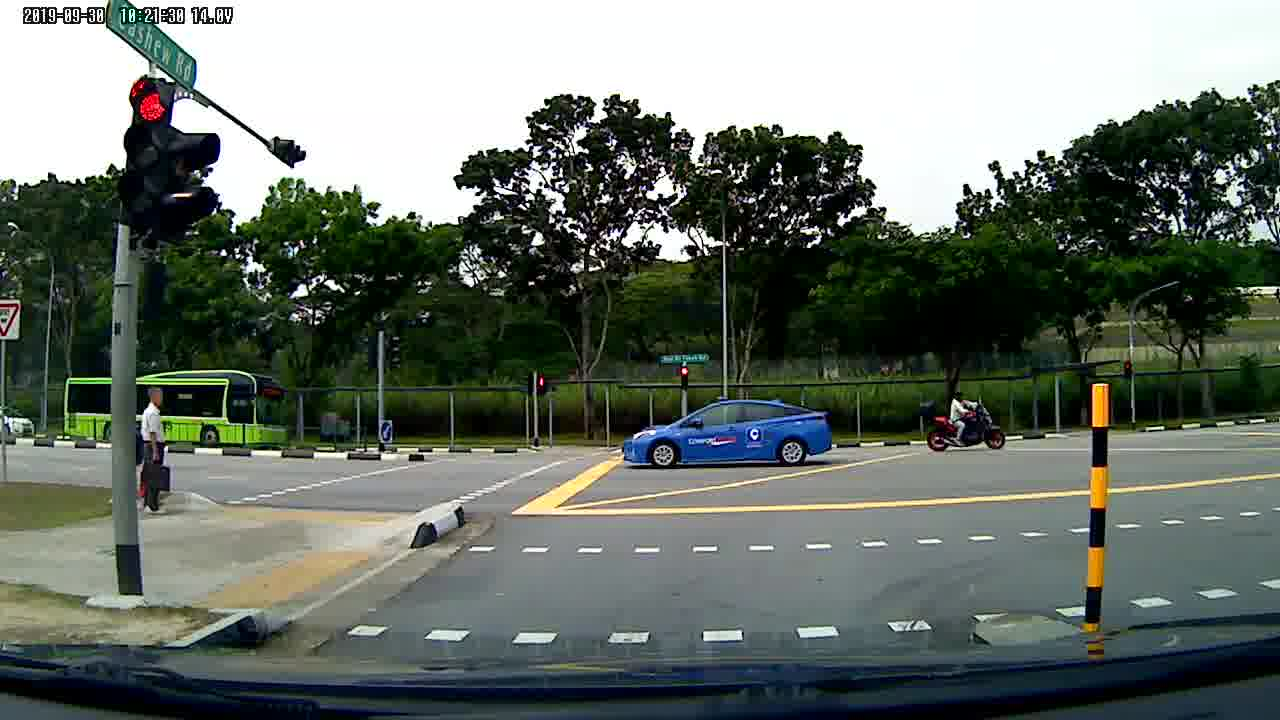bus: (61, 364, 286, 453)
car: (618, 396, 837, 469), (1, 406, 38, 438)
